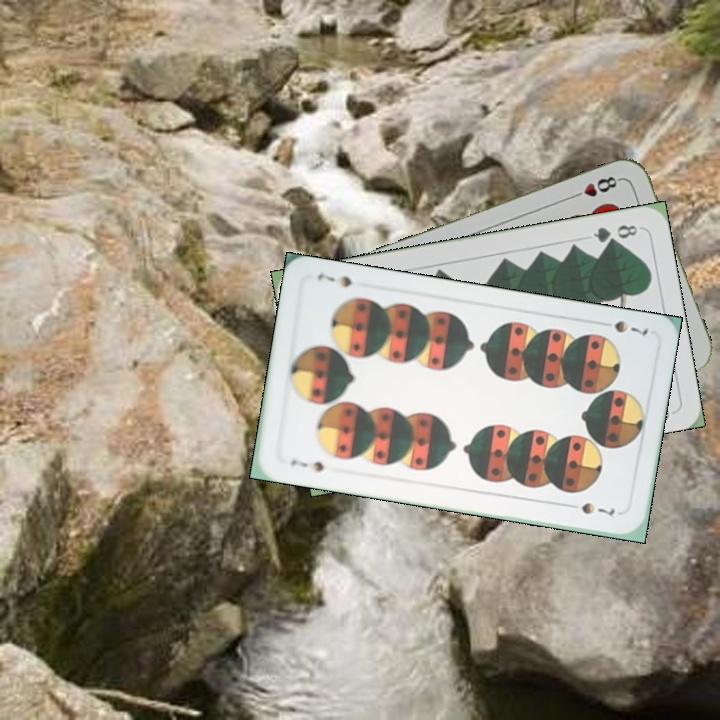G8: (589, 220, 640, 246)
H8: (567, 172, 624, 202)
S7: (594, 316, 651, 338), (286, 455, 327, 475)
